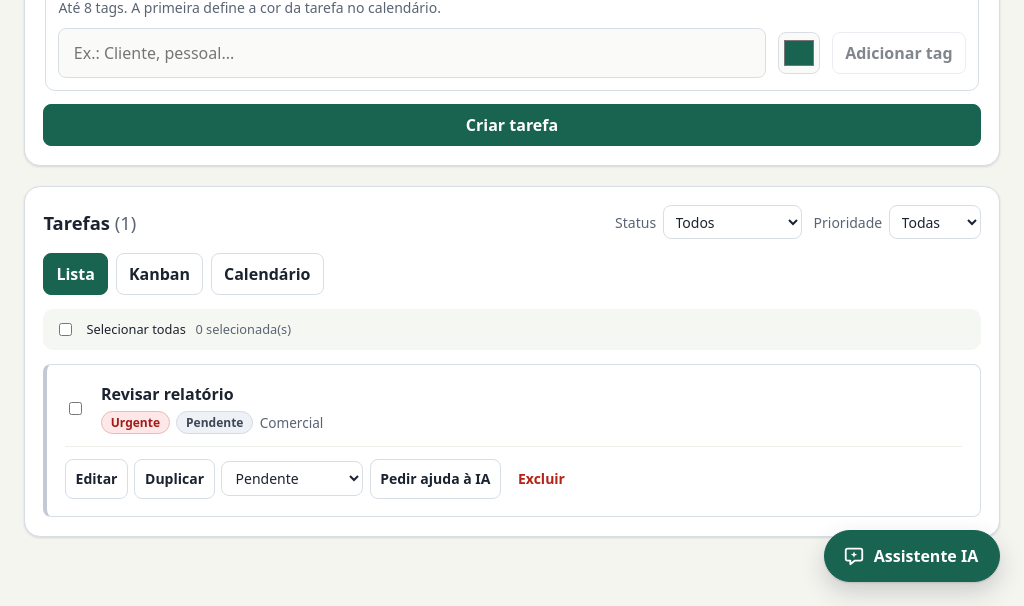
Test: TasksPage list › reloads with the selected filters and "Todos" removes them
Later steps or results of the test are not shown.
(page scrolled)
Check: the text "Revisar relatório" is shown, box [101, 383, 234, 405]
Step 1. Select "Em andamento" in the dropdown named "Filtrar por status" → point(732, 222), box [662, 205, 802, 239]
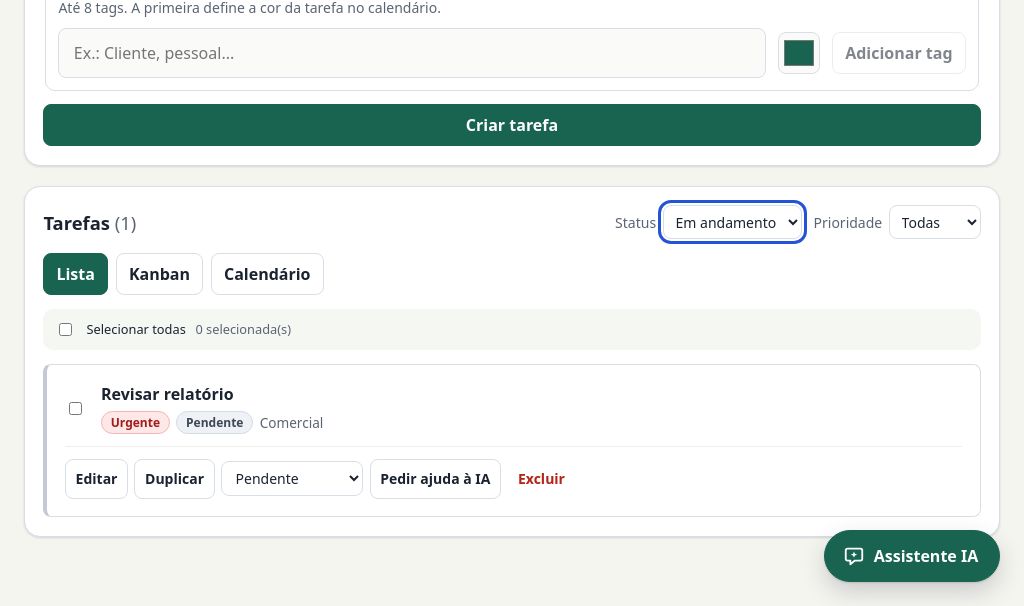
Step 2. Select "Urgente" in the dropdown named "Filtrar por prioridade" → point(935, 222), box [889, 205, 981, 239]
(page scrolled)
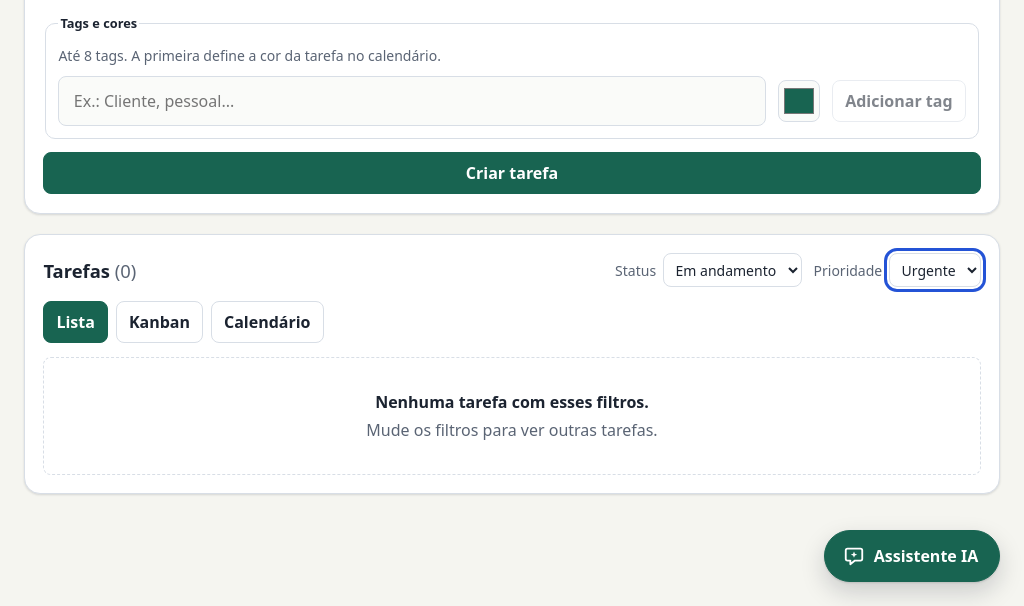
Check: the text "Nenhuma tarefa com esses filtros." is shown, box [375, 391, 649, 413]
Check: the heading "Tarefas (0)" is shown, box [43, 256, 136, 284]
